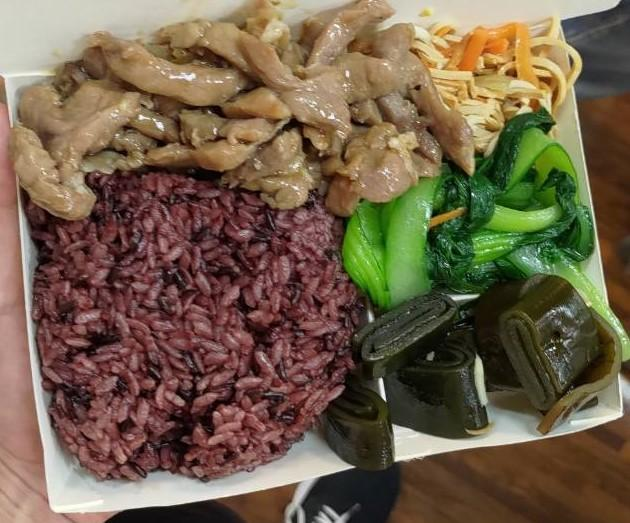big fried chicken leg: (4, 32, 630, 518)
braised fish: (29, 169, 362, 476)
braised fish fillet: (335, 277, 616, 444), (355, 132, 586, 292), (402, 27, 561, 145)
braised pork: (20, 3, 456, 232)
